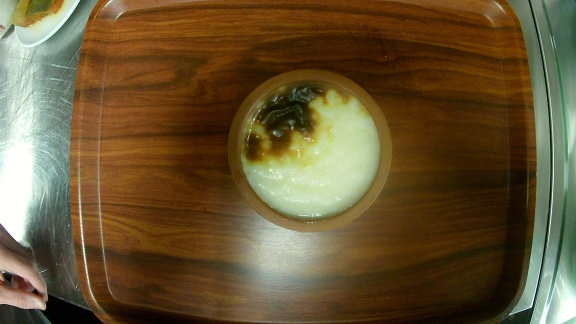sutlac: (226, 69, 394, 233)
